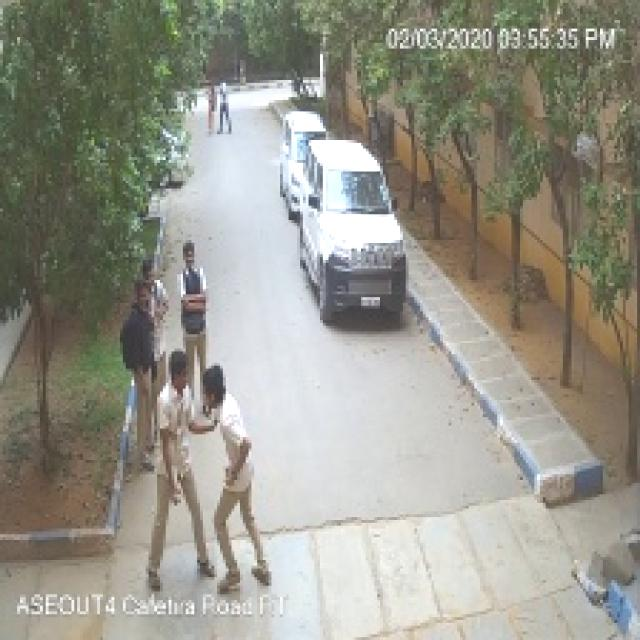fight: (132, 348, 294, 597)
